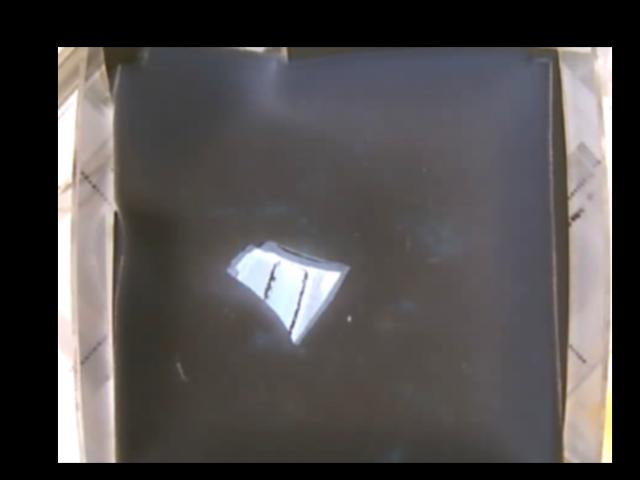China: (226, 237, 349, 342)
